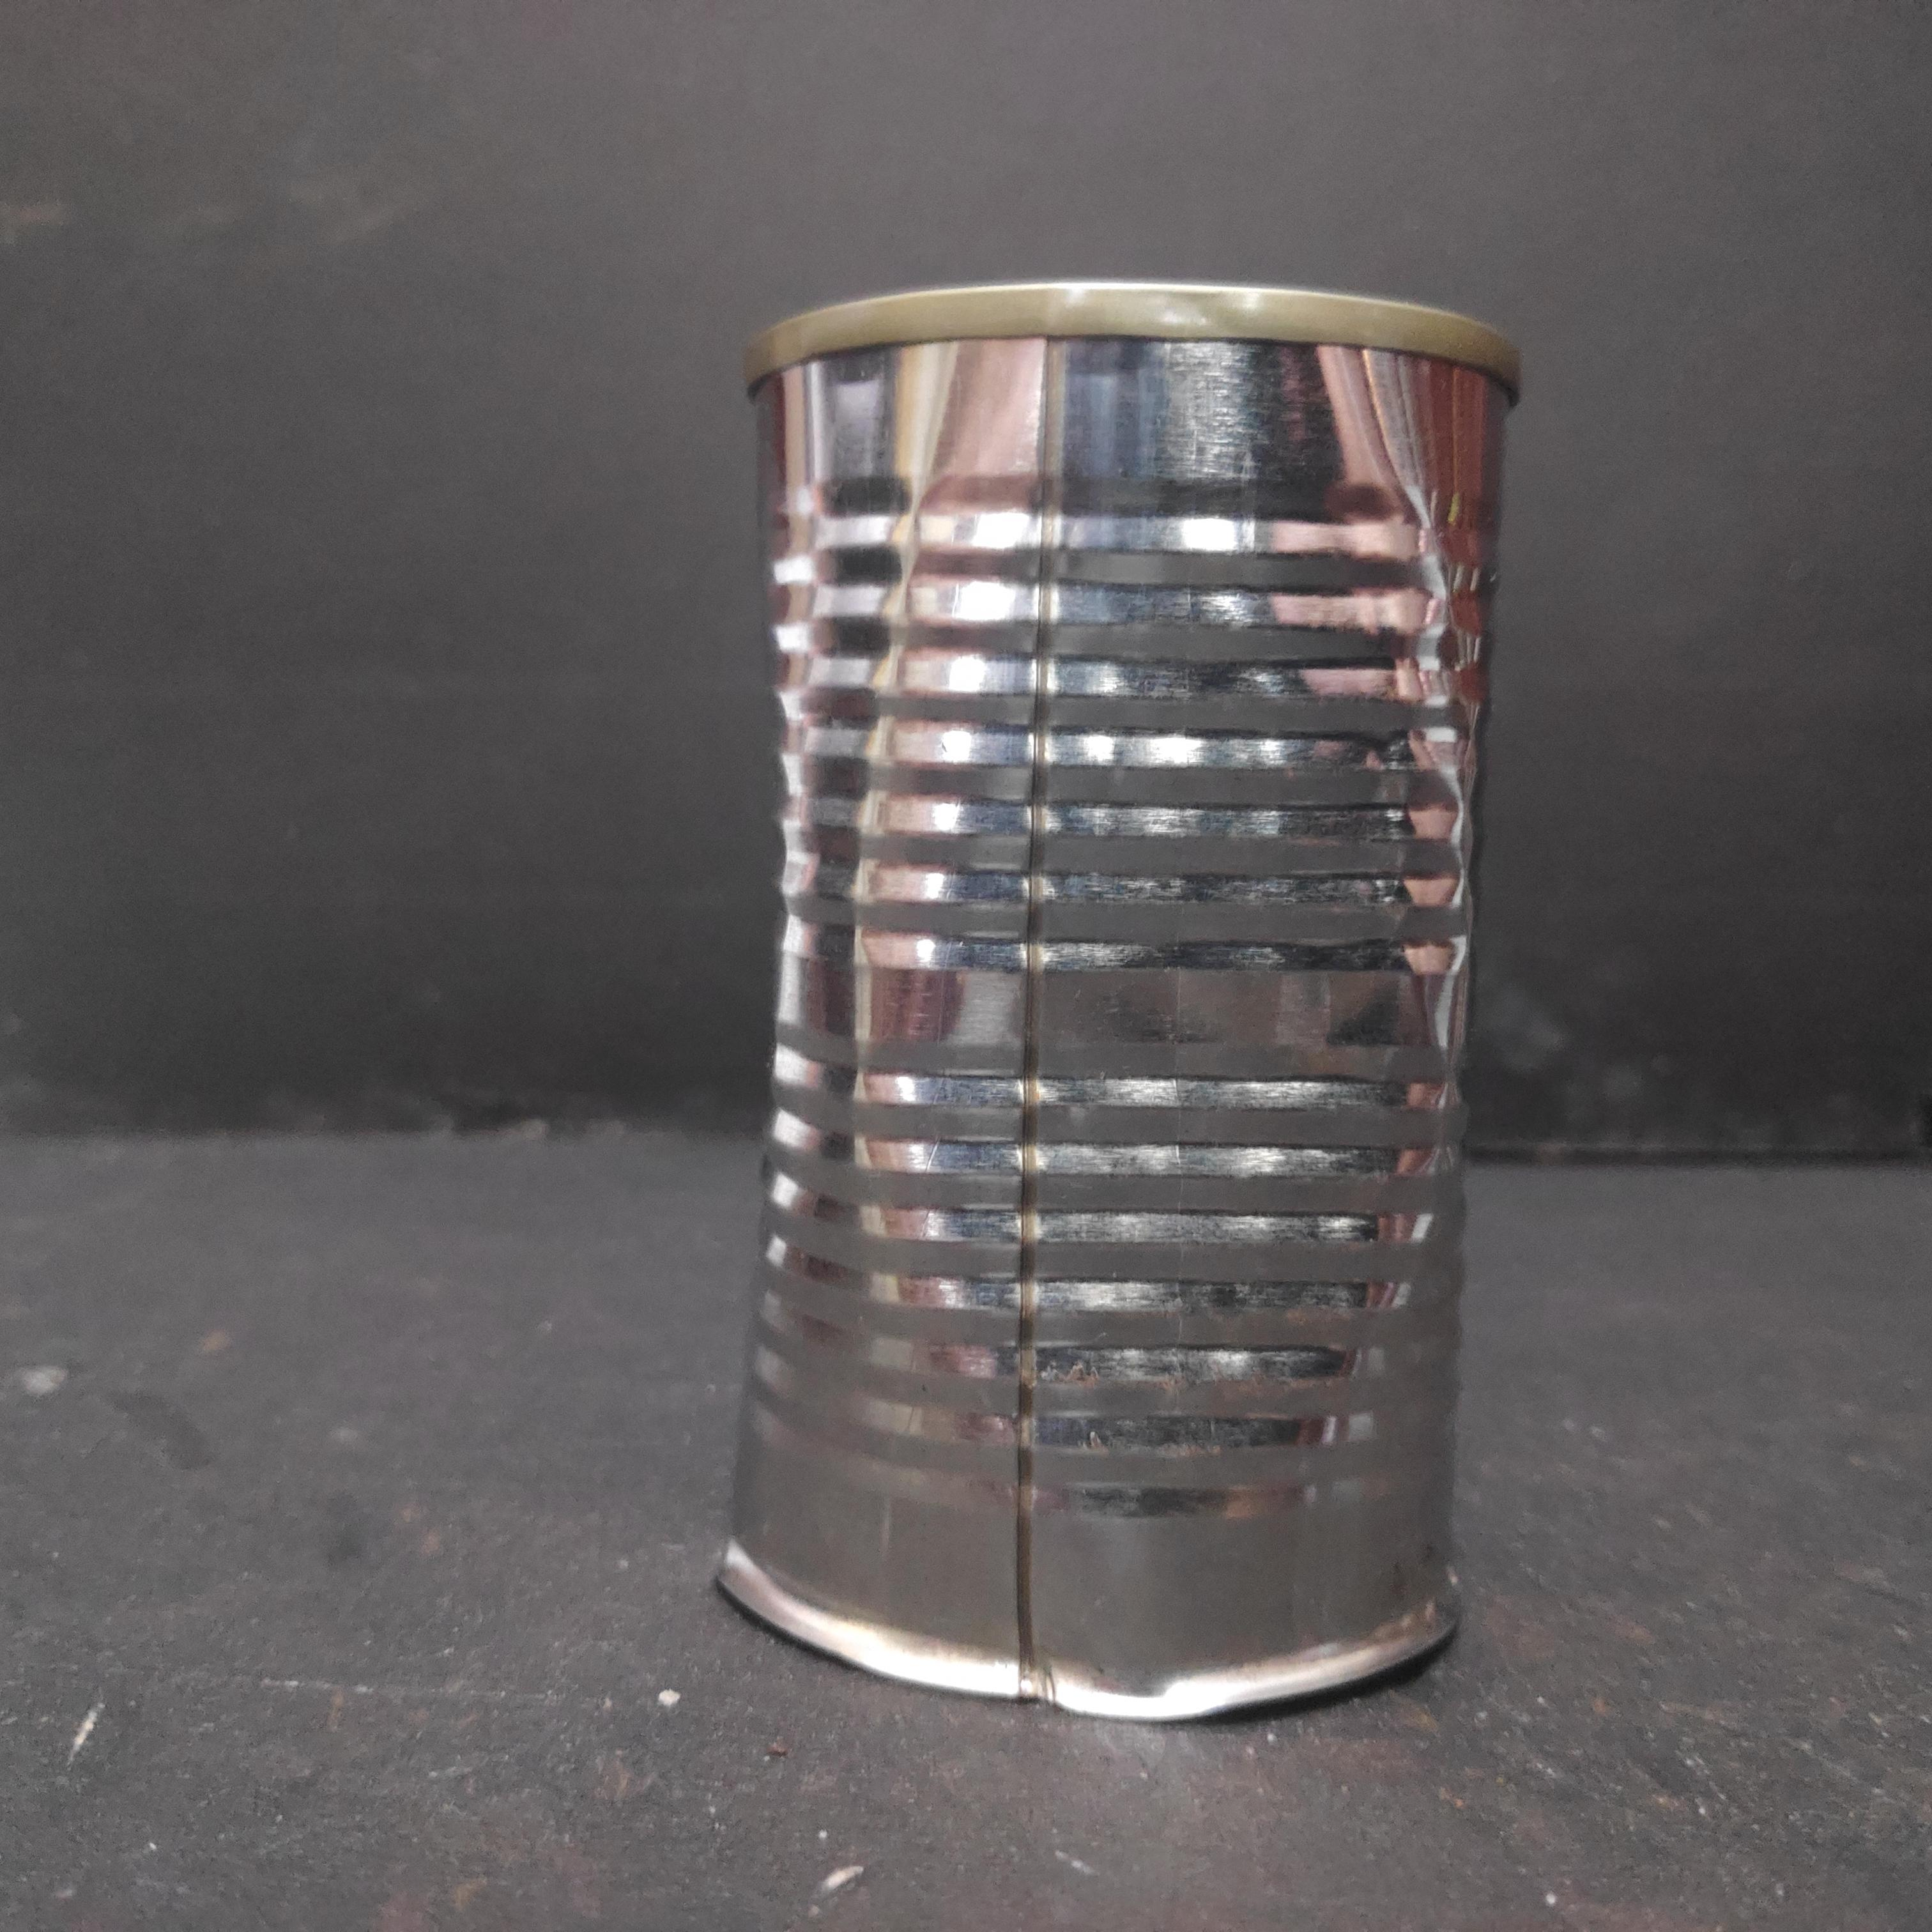Minor Defect: (720, 272, 1534, 1723)
